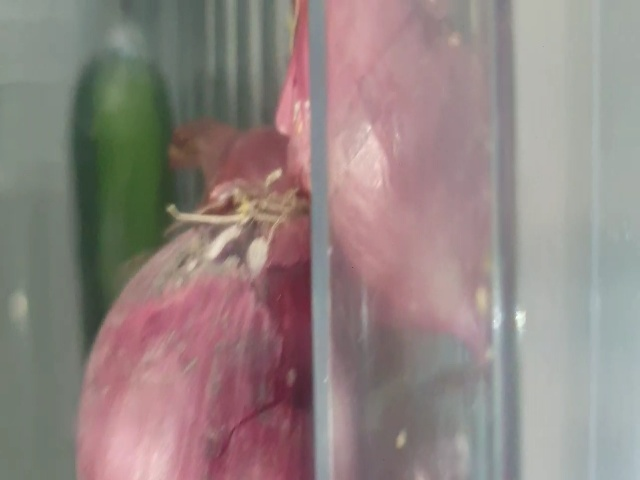red_onion: (278, 6, 500, 358), (79, 186, 311, 480)
